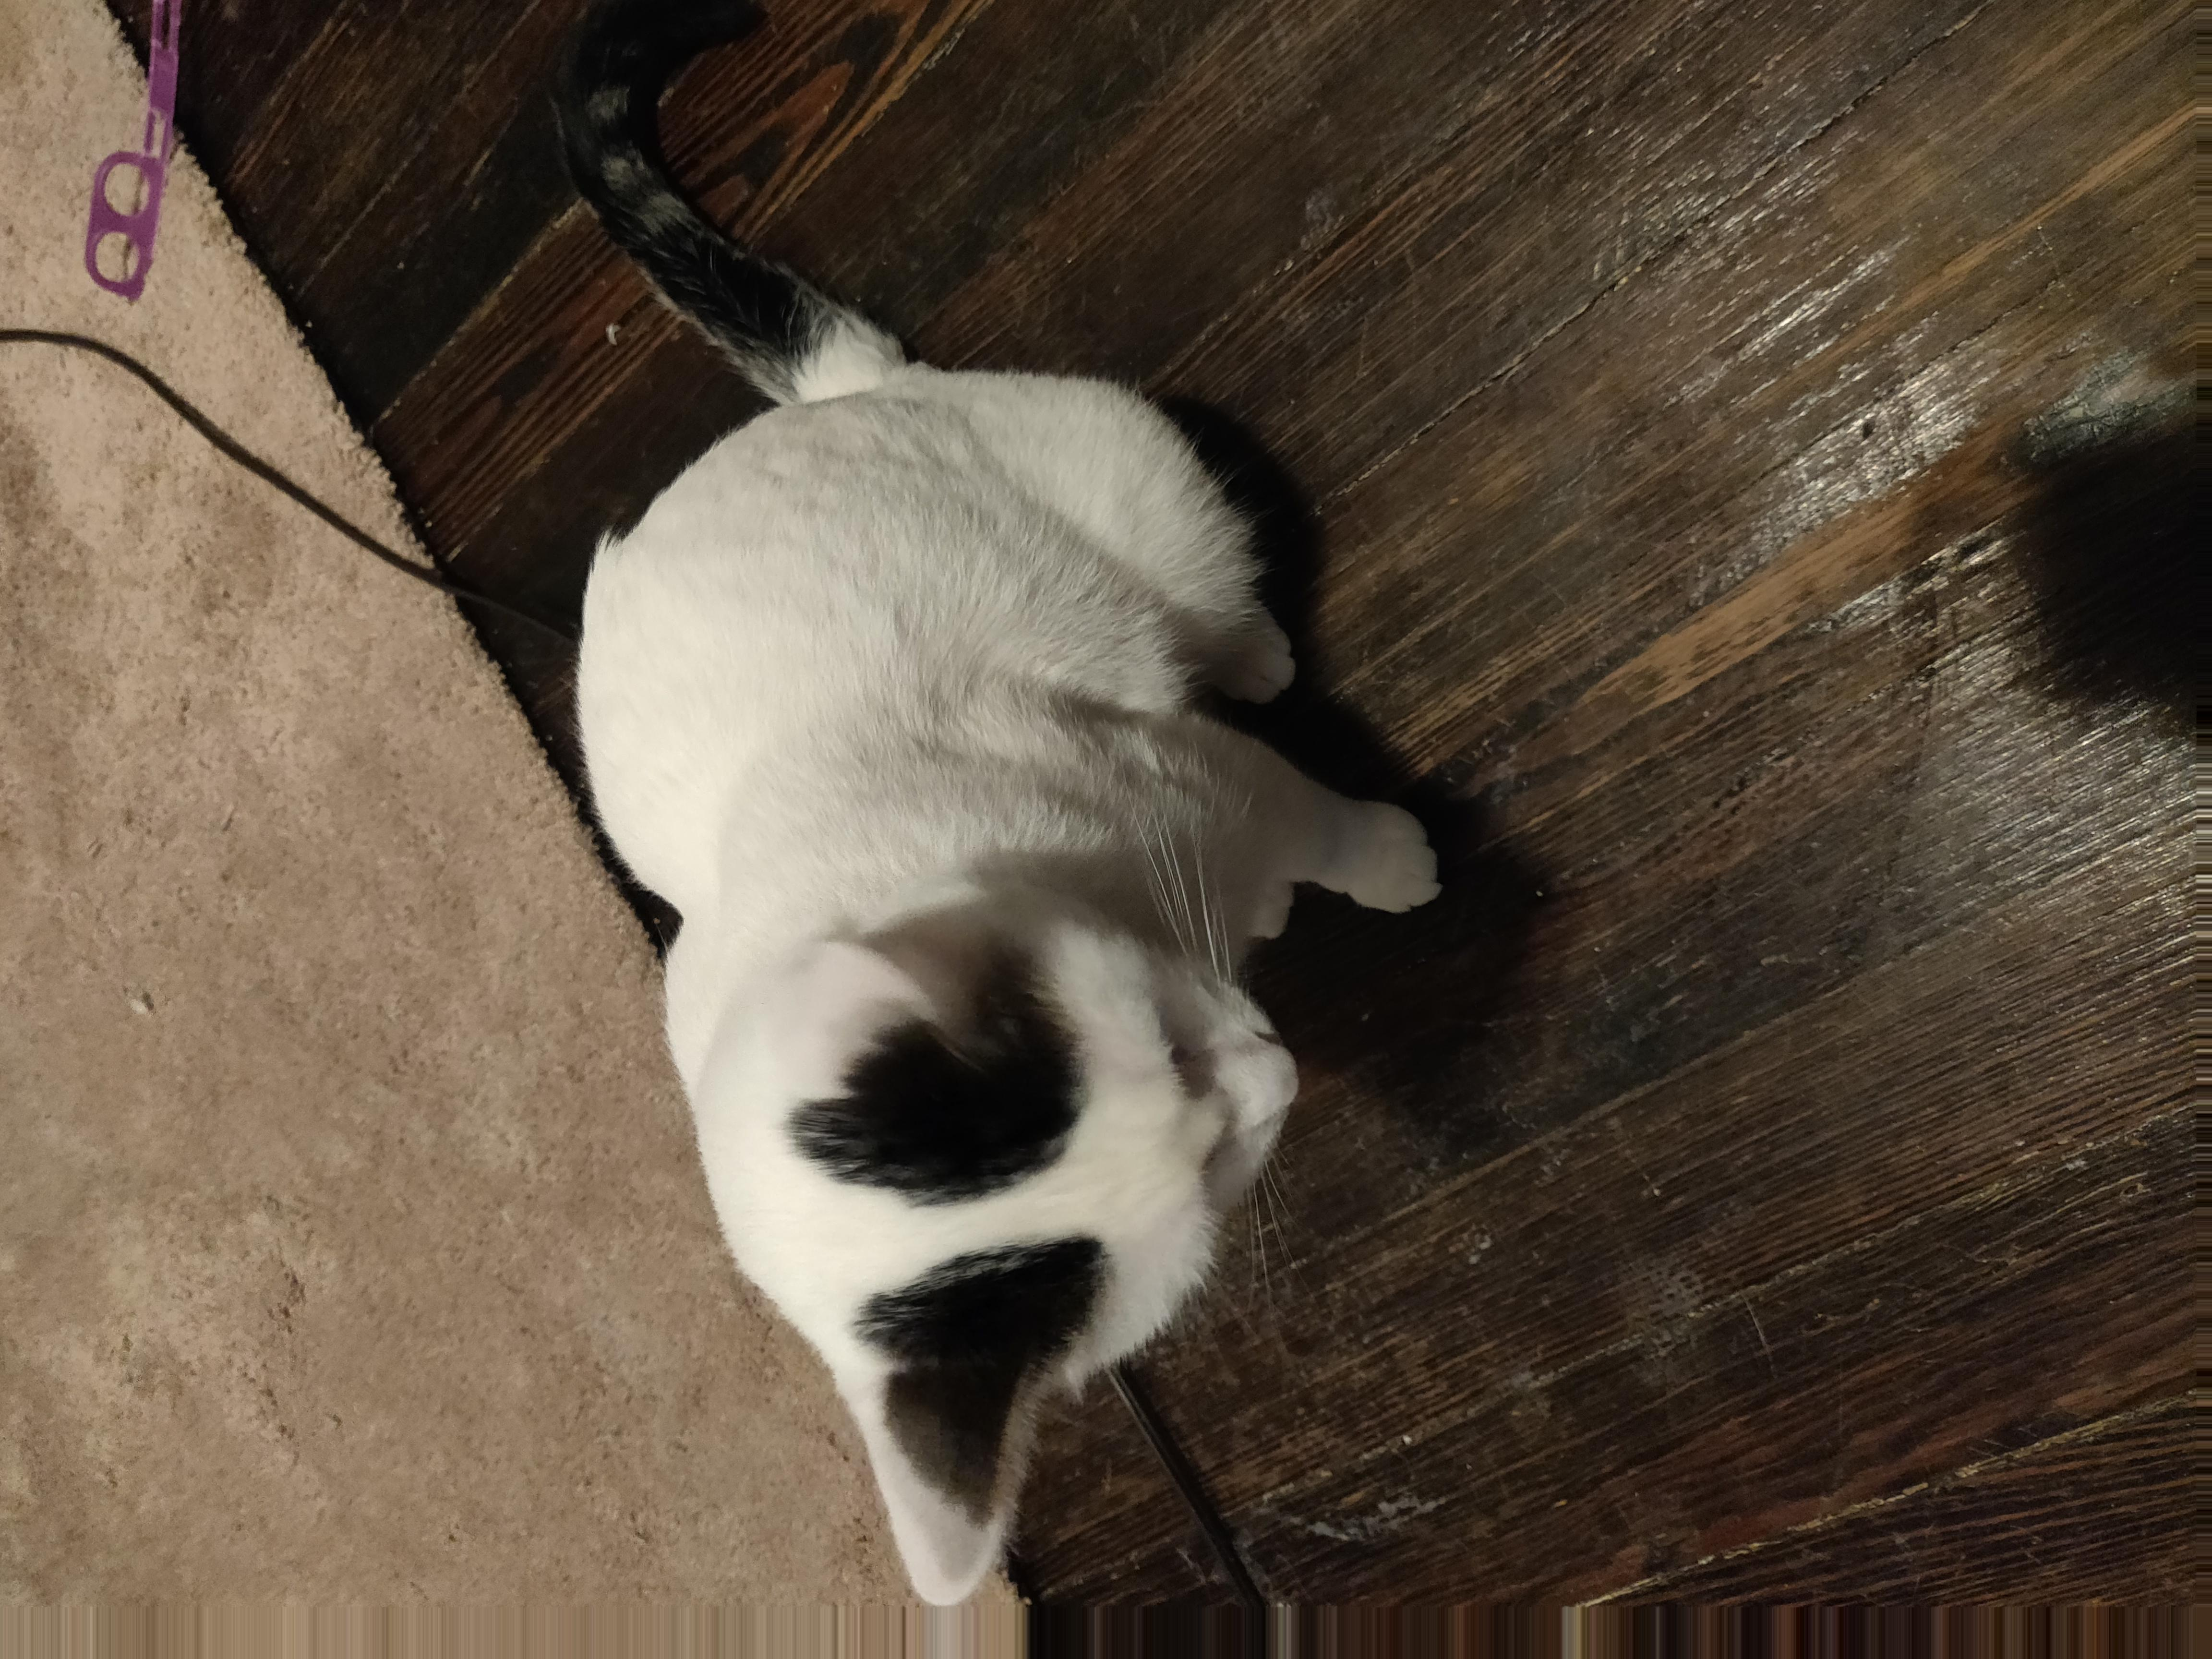cat: (561, 6, 1482, 1651)
